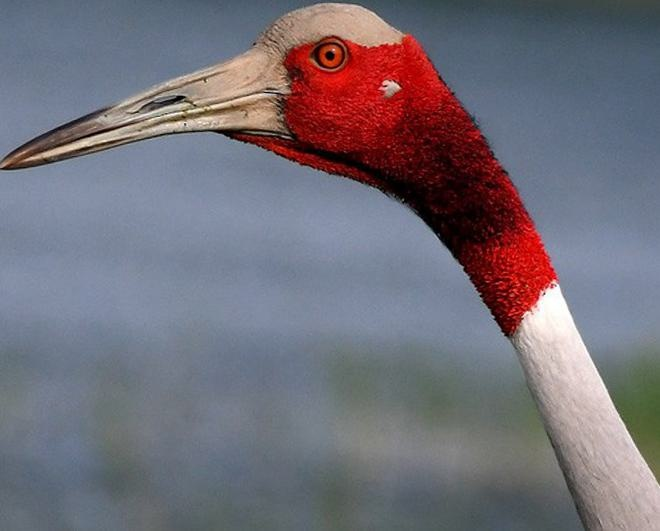crane: (4, 9, 660, 531)
